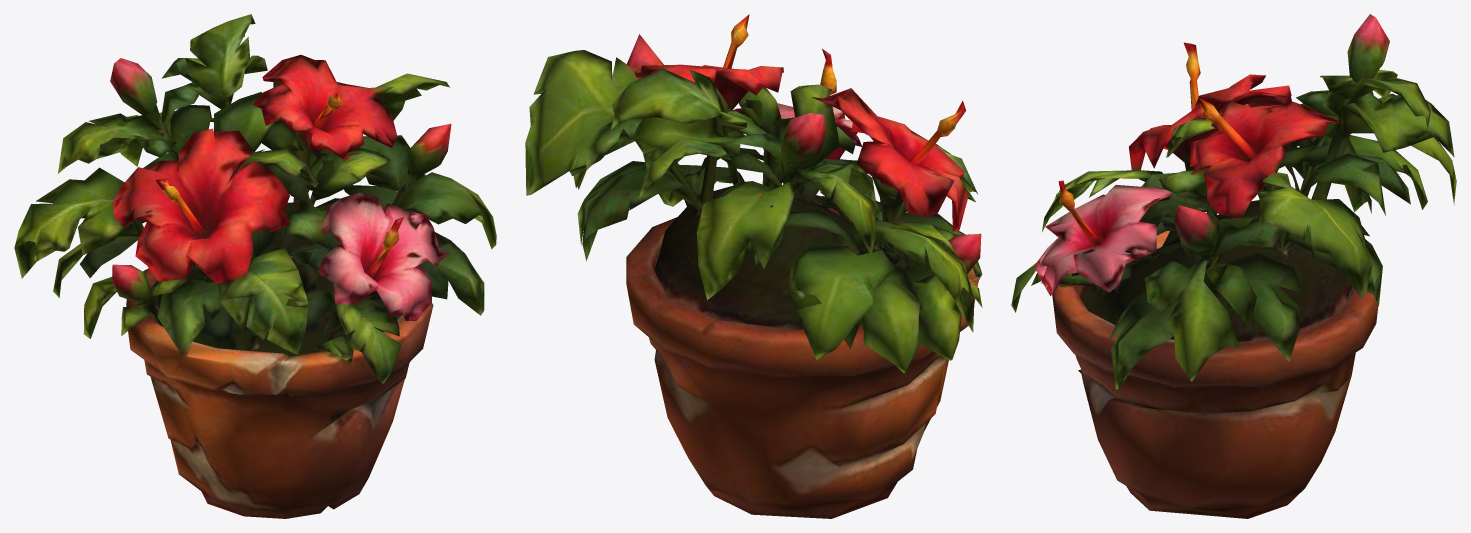
File: prop-planter-flowers-v2-desktop.glb
3 views of the same model, side by side, from view 1: azimuth 30°, elevation 25°; view 2: azimuth 150°, elevation 25°; view 3: azimuth 270°, elevation 25° (orthographic). The views are drawn at different scales.
Visible parts, largest first — view 1: tripo_node_6b65fc43-74d8-4e5e-b36f-7a21d4cb085b; view 2: tripo_node_6b65fc43-74d8-4e5e-b36f-7a21d4cb085b; view 3: tripo_node_6b65fc43-74d8-4e5e-b36f-7a21d4cb085b.
Boxes of the visible parts, bbox=[...] form: tripo_node_6b65fc43-74d8-4e5e-b36f-7a21d4cb085b: bbox=[14, 14, 496, 518]; tripo_node_6b65fc43-74d8-4e5e-b36f-7a21d4cb085b: bbox=[525, 14, 982, 518]; tripo_node_6b65fc43-74d8-4e5e-b36f-7a21d4cb085b: bbox=[1011, 14, 1456, 518].
Size of the model in its own units: 0.9812 by 0.913 by 0.8579.
1 material, 1 textured.
